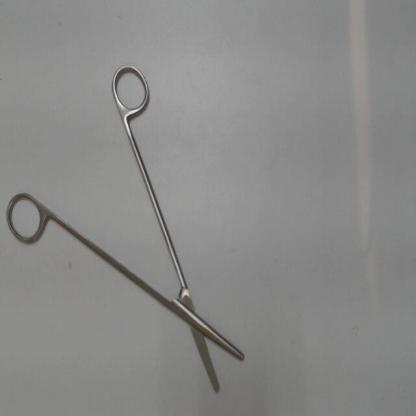9 Metzenbaum Scissors: (2, 53, 250, 397)
